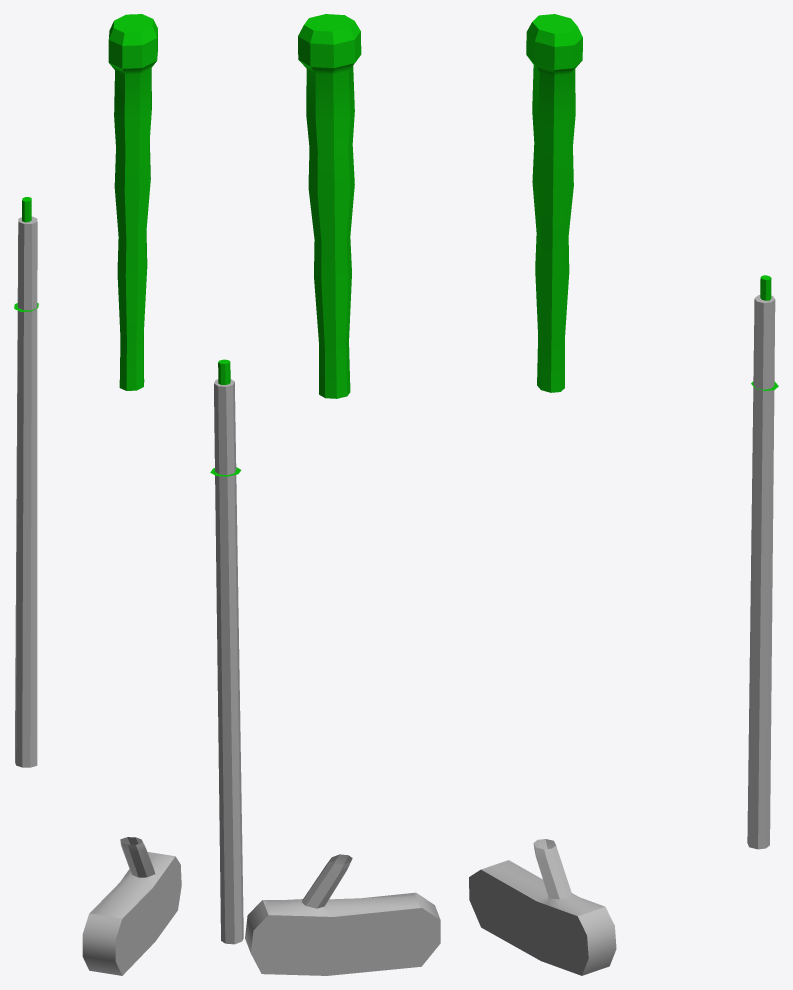
Rendered from golf_putter.fbx.
3 views of the same model, side by side, from view 1: azimuth 30°, elevation 25°; view 2: azimuth 150°, elevation 25°; view 3: azimuth 270°, elevation 25° (orthographic). The views are drawn at different scales.
Visible parts, largest first — view 1: putter_handle, putter_head, putter_shaft; view 2: putter_handle, putter_shaft, putter_head; view 3: putter_handle, putter_head, putter_shaft.
Boxes of the visible parts, box(x1,y1,x2,y2) form: putter_handle: box(108, 14, 157, 390); putter_head: box(14, 197, 38, 767); putter_shaft: box(82, 837, 181, 975); putter_handle: box(298, 14, 361, 398); putter_shaft: box(245, 854, 440, 975); putter_head: box(210, 359, 243, 944); putter_handle: box(526, 14, 582, 392); putter_head: box(747, 275, 778, 849); putter_shaft: box(469, 839, 616, 975).
Bounding box in the file's own units: 5.9 × 35.77 × 10.8.
